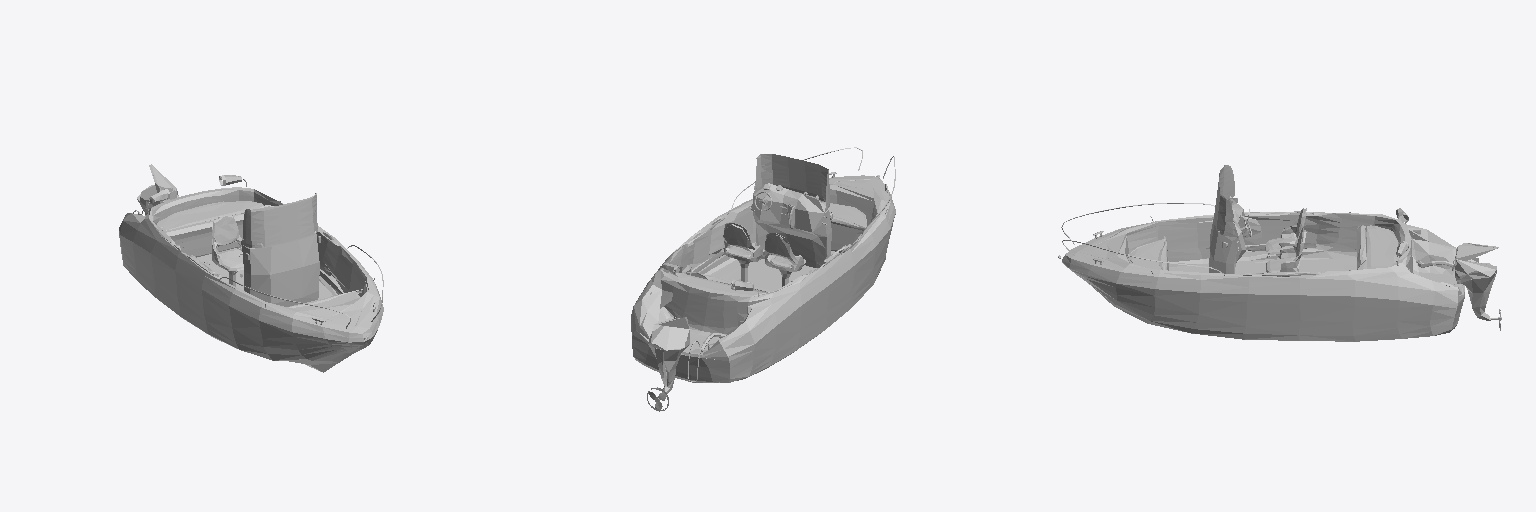
Rendered from Powerboat.obj.
The picture shows the model from 3 angles: view 1: azimuth 30°, elevation 25°; view 2: azimuth 150°, elevation 25°; view 3: azimuth 270°, elevation 25°; orthographic projection.
Parts seen in each view (by area): view 1: Retopo_Powerboat_Ref; view 2: Retopo_Powerboat_Ref; view 3: Retopo_Powerboat_Ref.
Boxes of the visible parts, <box> form: Retopo_Powerboat_Ref: <box>119,164,383,372</box>; Retopo_Powerboat_Ref: <box>631,147,895,411</box>; Retopo_Powerboat_Ref: <box>1058,165,1501,341</box>.
Bounding box in the file's own units: 1.91 × 1.9 × 5.14.